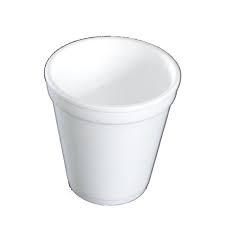Plastic cup: (5, 4, 225, 225)
